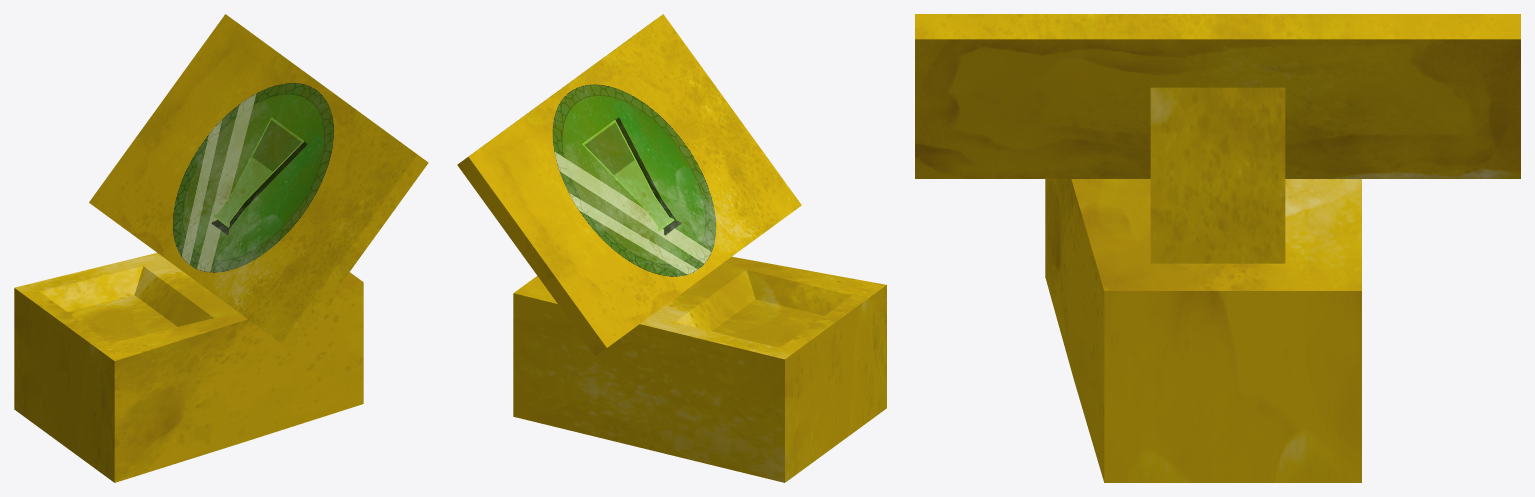
The model's file is Activador_veneno.glb.
The picture shows the model from 3 angles, left to right: view 1: azimuth 30°, elevation 25°; view 2: azimuth 150°, elevation 25°; view 3: azimuth 270°, elevation 25°; orthographic projection. The views are drawn at different scales.
Visible parts, largest first — view 1: N_activador.005; view 2: N_activador.005; view 3: N_activador.005.
Part boxes in pixels (left/top/right/bottom): N_activador.005: left=14, top=14, right=428, bottom=482; N_activador.005: left=457, top=14, right=886, bottom=482; N_activador.005: left=915, top=14, right=1520, bottom=482.
Size of the model in its own units: 1.01 by 1.04 by 1.23.
Materials: 1 (1 with a texture image).
